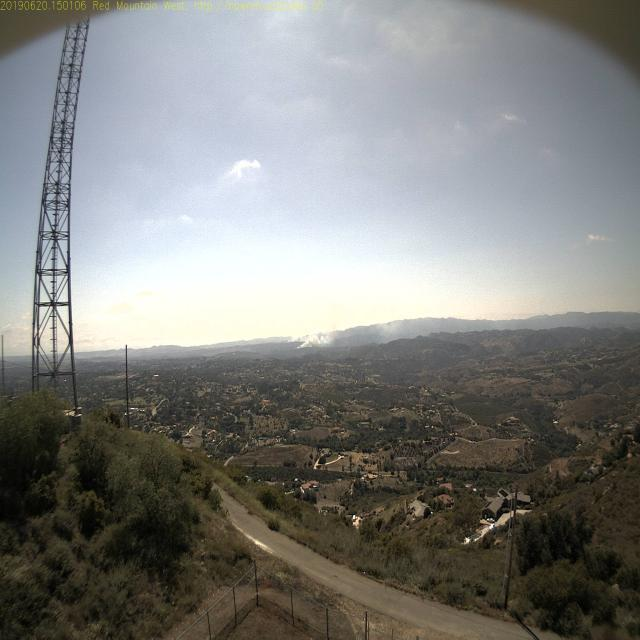smoke: (282, 325, 297, 352), (295, 335, 312, 356)
